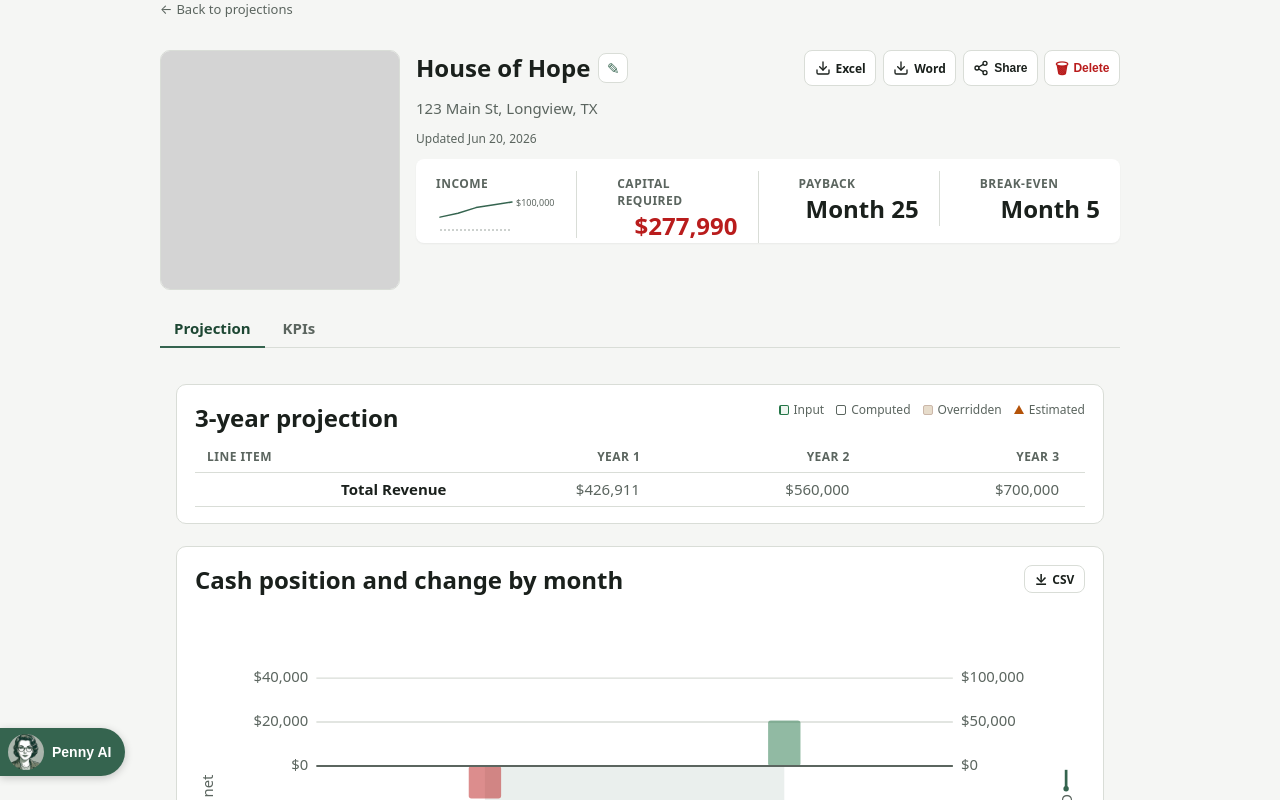
Test: ProjectionDetail — Penny mount (PE6, #125) › refetches the view-model after Penny applies an edit (tiles reflect the new computed_json)
Expected: the text "$277,990" is shown, [617,213,738,239]
Expected: the text with test id "metric-capital" reads "$277,990", [635,209,738,242]
Drive a Penny turn that applies an edit.
Click the button with test id "penny-fab" at (63, 752), box [0,728,125,776]
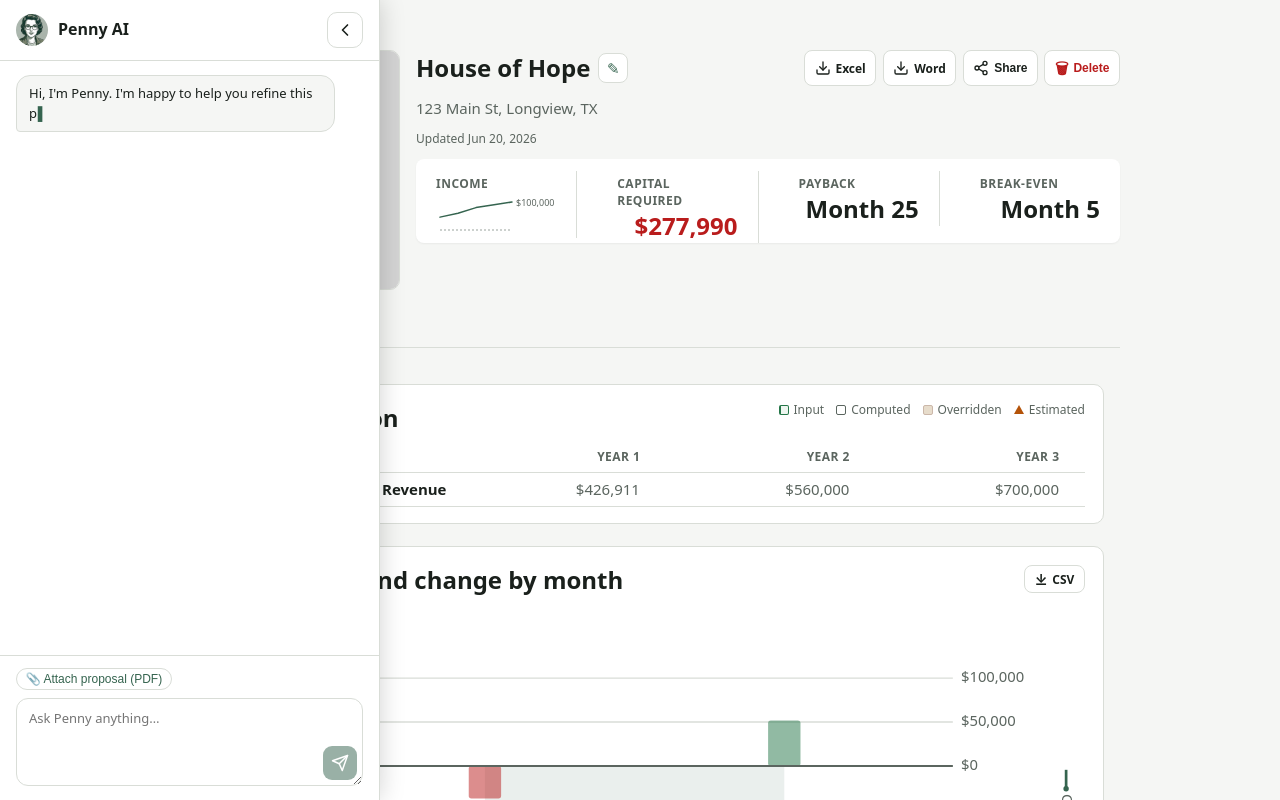
Now the dialog is shown, box [0,0,380,799]
Type "raise the reserve" into the text box labelled "Ask Penny anything…" at (190, 742), box [16,698,363,786]
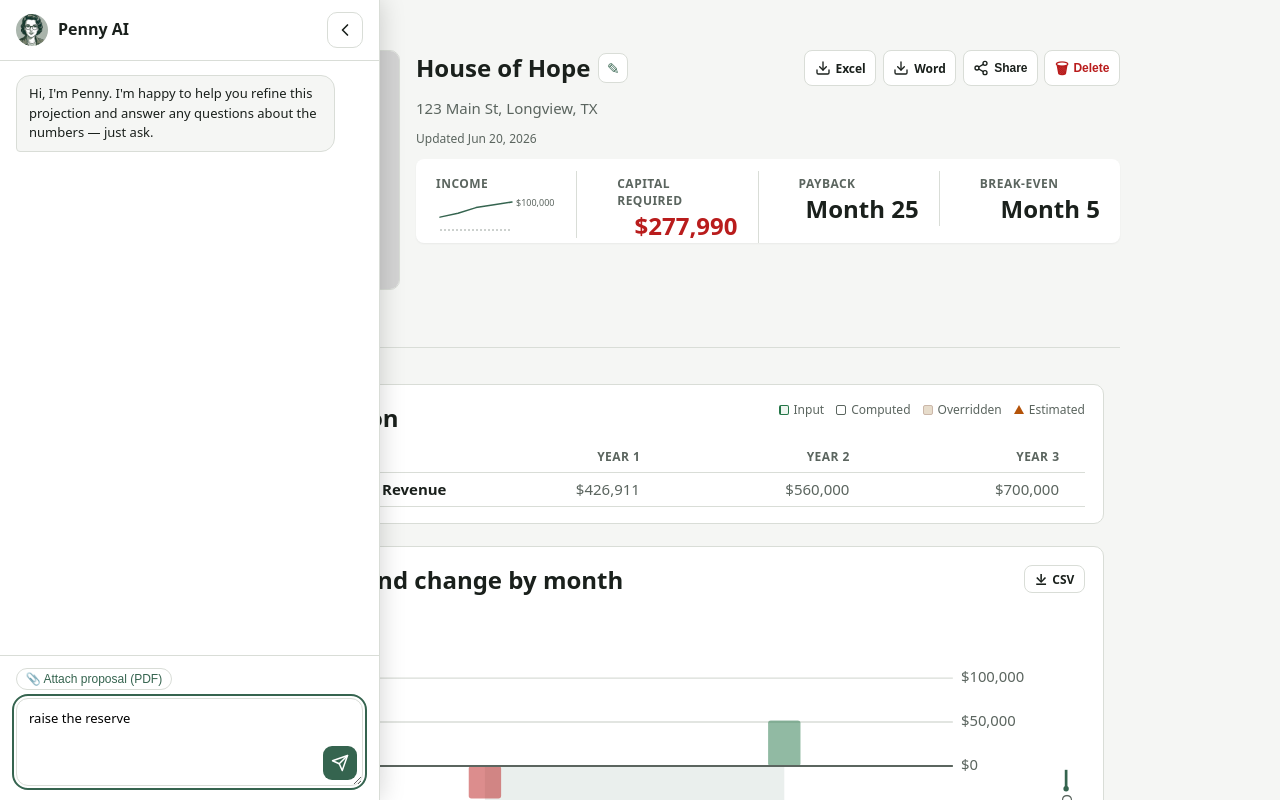
Click the button named "send" at (340, 763), box [323,746,357,780]
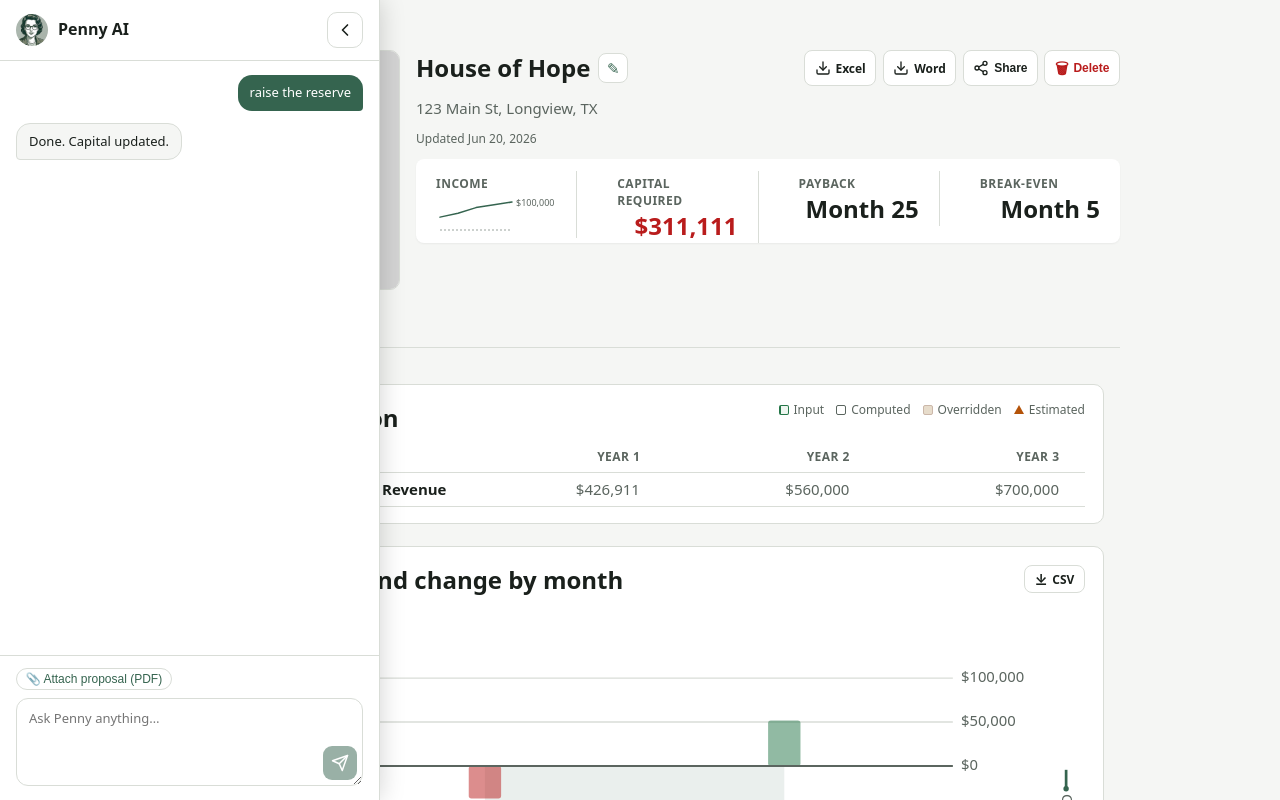
Now the text with test id "metric-capital" reads "$311,111", box [635,209,738,242]
